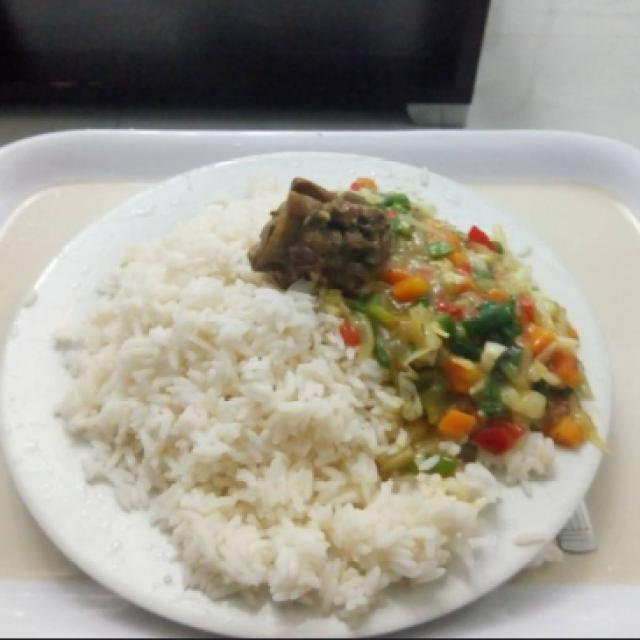rice: (60, 195, 497, 615)
